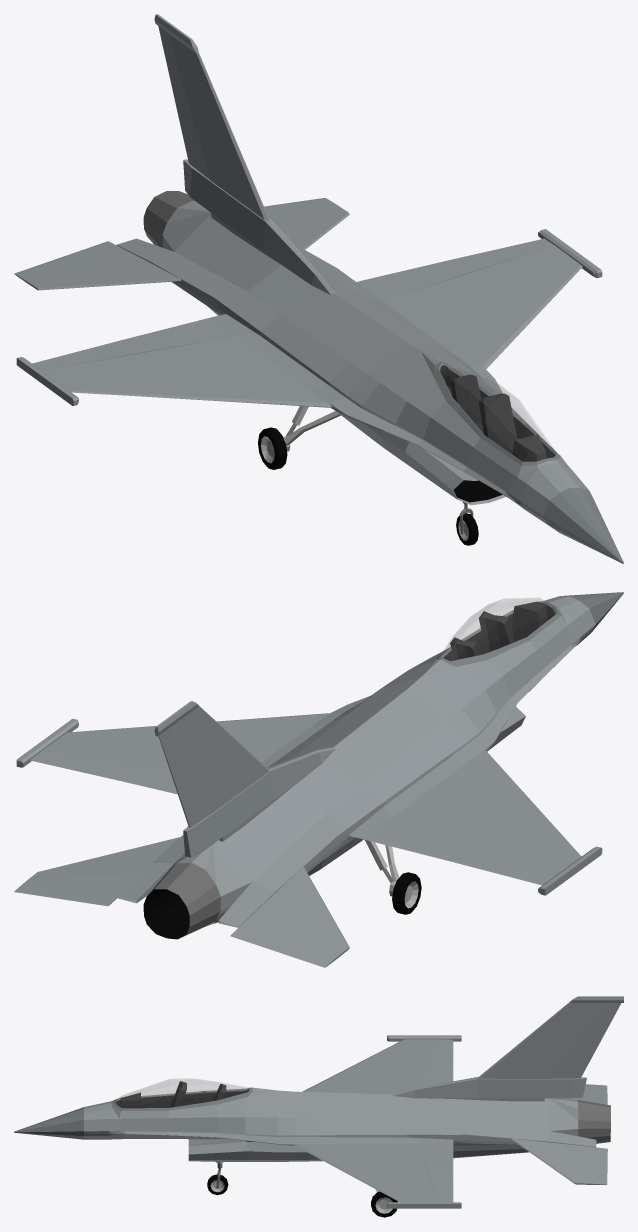
The picture shows the model from 3 angles, top to bottom: view 1: azimuth 30°, elevation 25°; view 2: azimuth 150°, elevation 25°; view 3: azimuth 270°, elevation 25°; orthographic projection. The views are drawn at different scales.
Parts seen in each view (by area): view 1: body.002, windshield.002, R_Elevator.002, R_Flap.002, L_Elevator.002, L_Flap.002, Circle.005, Landing gear_RR.002; view 2: body.002, R_Elevator.002, L_Elevator.002, windshield.002, R_Flap.002, Circle.005, L_Flap.002, Landing gear_RR.002, R_ailerone.002, L_ailerone.002; view 3: body.002, windshield.002, L_Elevator.002, Circle.005, L_Flap.002, R_Flap.002, R_Elevator.002, Landing gear_RL.002, Landing gear_F.002.
Boxes of the visible parts, left/top/right/bottom form: body.002: left=16, top=14, right=623, bottom=563; windshield.002: left=433, top=362, right=560, bottom=465; R_Elevator.002: left=14, top=241, right=181, bottom=290; R_Flap.002: left=83, top=317, right=236, bottom=360; L_Elevator.002: left=264, top=198, right=349, bottom=249; L_Flap.002: left=365, top=250, right=506, bottom=297; Circle.005: left=158, top=26, right=210, bottom=180; Landing gear_RR.002: left=258, top=406, right=340, bottom=469; body.002: left=16, top=592, right=623, bottom=939; R_Elevator.002: left=230, top=867, right=349, bottom=967; L_Elevator.002: left=14, top=837, right=179, bottom=906; windshield.002: left=435, top=598, right=560, bottom=666; R_Flap.002: left=364, top=818, right=506, bottom=871; Circle.005: left=158, top=727, right=215, bottom=827; L_Flap.002: left=83, top=760, right=177, bottom=794; Landing gear_RR.002: left=365, top=840, right=421, bottom=914; R_ailerone.002: left=491, top=859, right=553, bottom=885; L_ailerone.002: left=30, top=751, right=98, bottom=772; body.002: left=14, top=996, right=623, bottom=1208; windshield.002: left=113, top=1078, right=252, bottom=1110; L_Elevator.002: left=511, top=1138, right=607, bottom=1185; Circle.005: left=550, top=1003, right=621, bottom=1078; L_Flap.002: left=418, top=1143, right=453, bottom=1186; R_Flap.002: left=420, top=1055, right=453, bottom=1086; R_Elevator.002: left=545, top=1084, right=607, bottom=1104; Landing gear_RL.002: left=371, top=1189, right=397, bottom=1217; Landing gear_F.002: left=207, top=1162, right=228, bottom=1195.
Bounding box in the file's own units: 866 × 474 × 1324.
